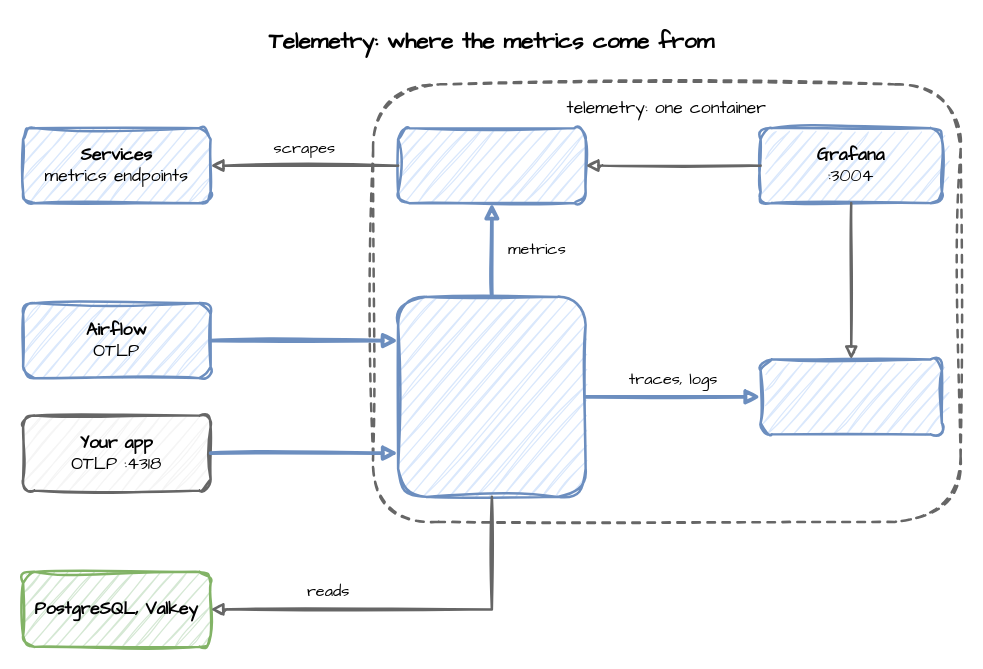
Some shapes in this 983 by 669 pixel diagram are drawn without their labels. Each missing label, with the centre of its shape:
"Collector" goes at point 491,396.
"Prometheus" goes at point 491,165.
"Tempo, Loki" goes at point 850,396.
